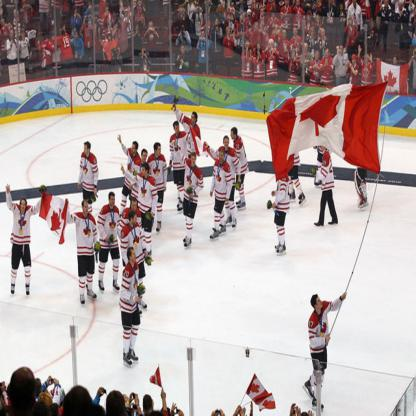face: (317, 298, 324, 307), (84, 203, 89, 214), (22, 201, 27, 212), (132, 203, 138, 212), (157, 147, 162, 157), (132, 250, 137, 260), (179, 6, 185, 14), (220, 153, 225, 162), (143, 153, 148, 162), (132, 145, 137, 154), (111, 197, 116, 206), (142, 168, 147, 176), (149, 23, 154, 31), (227, 29, 232, 37), (246, 44, 251, 52), (226, 140, 230, 149), (192, 115, 196, 124), (85, 146, 89, 155), (3, 28, 7, 37), (182, 47, 187, 54), (192, 157, 196, 165), (176, 126, 180, 134), (94, 188, 98, 196), (139, 5, 143, 13), (134, 215, 137, 225), (321, 31, 326, 37), (12, 30, 15, 40), (254, 24, 259, 30), (124, 12, 129, 18), (365, 56, 369, 63), (248, 12, 252, 19), (270, 42, 274, 49), (14, 13, 19, 18), (316, 54, 320, 60), (326, 51, 329, 59), (294, 29, 298, 35), (311, 30, 315, 36), (341, 47, 344, 55), (283, 34, 287, 40), (353, 59, 357, 65), (371, 24, 375, 30), (394, 58, 398, 64), (202, 32, 206, 38), (399, 5, 403, 11), (275, 26, 279, 32), (89, 22, 92, 30), (232, 132, 235, 139), (99, 28, 102, 35), (216, 20, 219, 27), (340, 6, 344, 11), (305, 46, 308, 52), (308, 16, 311, 22), (258, 44, 261, 50), (386, 1, 389, 7), (359, 46, 362, 52), (136, 25, 139, 31), (22, 32, 25, 38), (293, 52, 296, 57), (350, 21, 353, 26), (77, 34, 79, 40), (265, 26, 267, 31), (109, 38, 112, 41), (415, 10, 416, 16)
